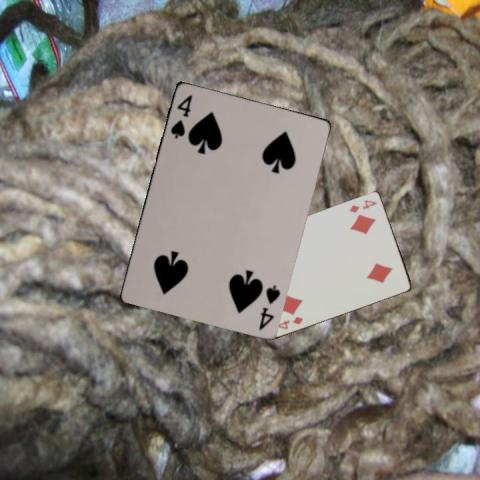4d: (272, 313, 304, 331), (346, 197, 379, 214)
4s: (255, 282, 282, 332), (168, 92, 194, 140)
